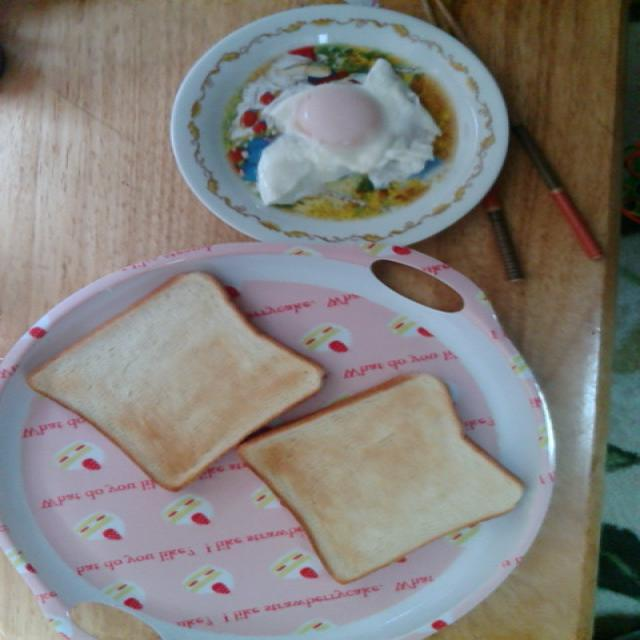Bread: (231, 356, 529, 582), (25, 268, 322, 488)
Egg: (252, 52, 438, 206)
